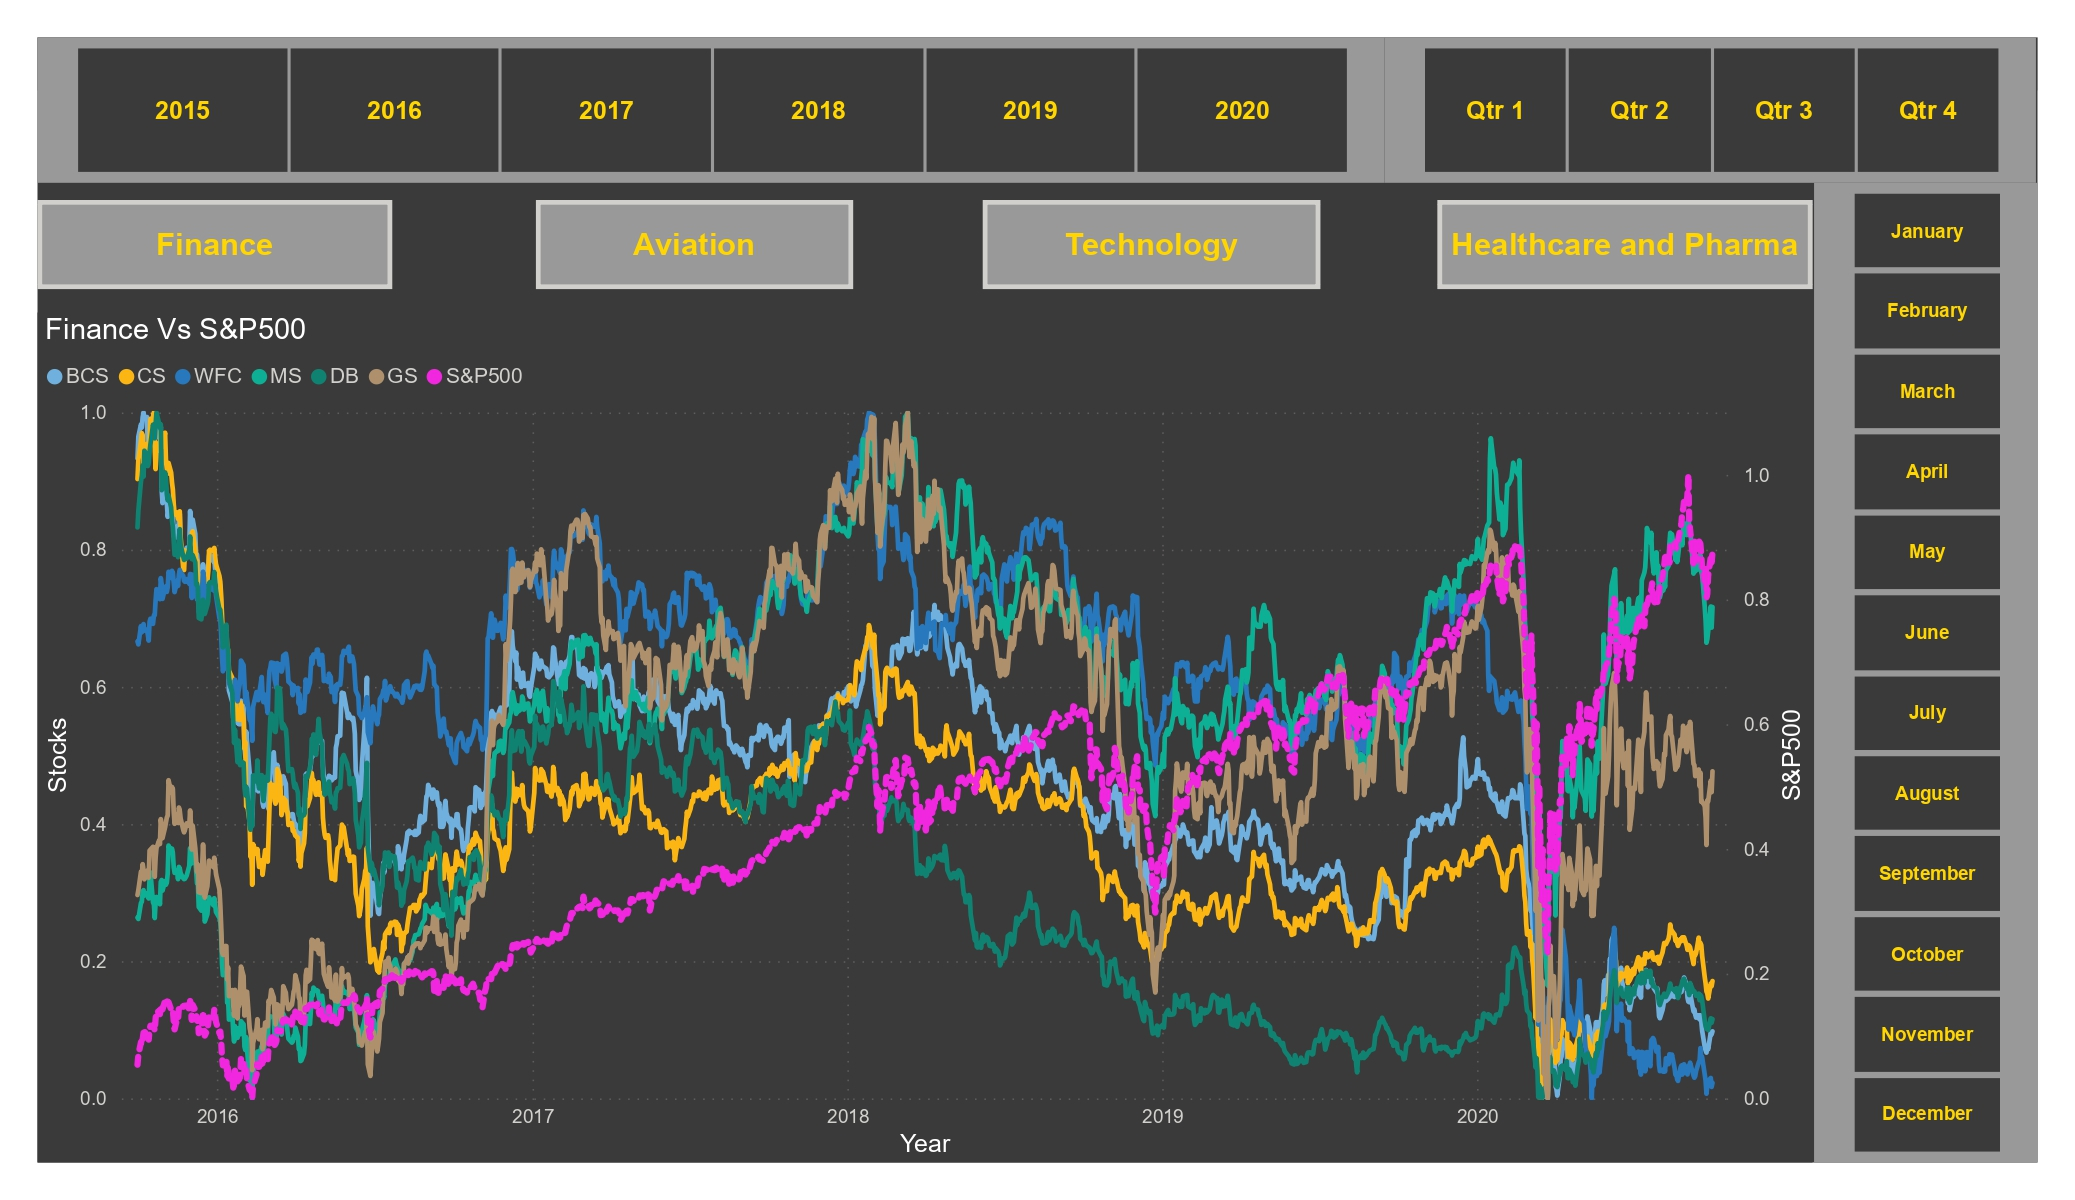

Layout of this report page (visuals, bound fields, positions):
{"tool":"powerbi","page":{"name":"5 Years","canvas":[1280,720],"ordinal":0},"visuals":[{"type":"lineChart","title":"Finance Vs S&P500","fields":{"Y":["Avg(normalized_5_Years_data.BCS)","Avg(normalized_5_Years_data.CS)","Avg(normalized_5_Years_data.WFC)","Avg(normalized_5_Years_data.MS)","Avg(normalized_5_Years_data.DB)","Avg(normalized_5_Years_data.GS)"],"Category":["normalized_5_Years_data.Date.Variation.Date Hierarchy.Year","normalized_5_Years_data.Date.Variation.Date Hierarchy.Quarter","normalized_5_Years_data.Date.Variation.Date Hierarchy.Month","normalized_5_Years_data.Date.Variation.Date Hierarchy.Day"],"Y2":["Avg(normalized_5_Years_data.S&P500)"]},"box":[0,175.8,1135.8,545.4],"z":1000},{"type":"slicer","title":"Year Slicer","fields":{"Values":["normalized_5_Years_data.Date.Variation.Date Hierarchy.Year"]},"box":[0,0,861.5,92.9],"z":4000},{"type":"slicer","title":"Month Slicer","fields":{"Values":["normalized_5_Years_data.Date.Variation.Date Hierarchy.Month"]},"box":[1137.1,92.9,142.9,627.1],"z":5000},{"type":"slicer","title":"Quarter Slicer","fields":{"Values":["normalized_5_Years_data.Date.Variation.Date Hierarchy.Quarter"]},"box":[861.5,0,417.6,92.9],"z":6000},{"type":"actionButton","title":"Aviation Button","box":[319.1,104,202.5,56.9],"z":7000},{"type":"actionButton","title":"Technology Button","box":[604.9,104,216.4,56.9],"z":8000},{"type":"actionButton","title":"Finance Button","box":[0,103.8,226.9,56.9],"z":9000},{"type":"actionButton","title":"Healthcare and Pharma Button","box":[896.2,104,240,56.9],"z":10000}]}

Visuals, with their boxes in screenshot pixels (x1, y1, x2, y2):
"Finance Vs S&P500" lineChart: 38:312:1812:1162
"Year Slicer" slicer: 38:38:1384:183
"Month Slicer" slicer: 1814:183:2038:1162
"Quarter Slicer" slicer: 1384:38:2036:183
"Aviation Button" actionButton: 536:200:852:289
"Technology Button" actionButton: 983:200:1321:289
"Finance Button" actionButton: 38:200:392:289
"Healthcare and Pharma Button" actionButton: 1438:200:1813:289
